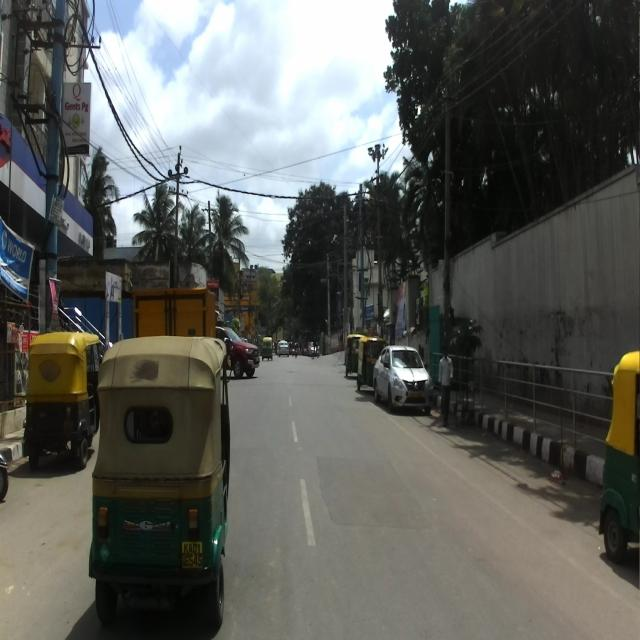Car_Ford: (216, 322, 260, 379)
Car_Nissan: (373, 344, 433, 414)
autorickshaw: (88, 335, 235, 629), (23, 331, 103, 471)
